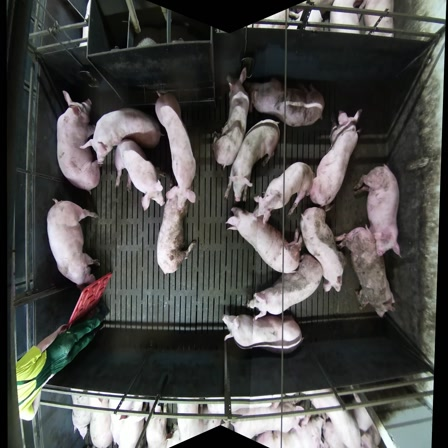hog: (144, 84, 205, 214), (214, 199, 310, 279), (331, 220, 402, 325), (243, 247, 332, 330), (98, 132, 176, 222), (218, 110, 286, 208), (305, 104, 368, 208), (202, 65, 263, 168), (248, 153, 328, 230), (151, 173, 207, 279), (74, 101, 165, 166), (293, 203, 354, 295), (219, 299, 307, 357), (47, 197, 101, 287), (55, 88, 99, 191), (353, 162, 400, 257), (251, 79, 324, 127)
person: (0, 297, 129, 417)
